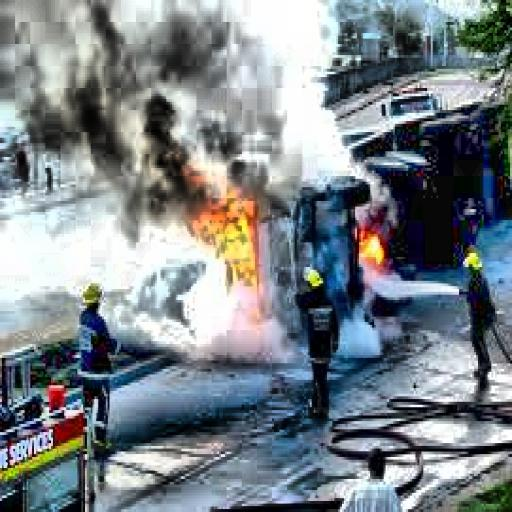fire: (132, 140, 265, 322), (344, 215, 393, 275)
